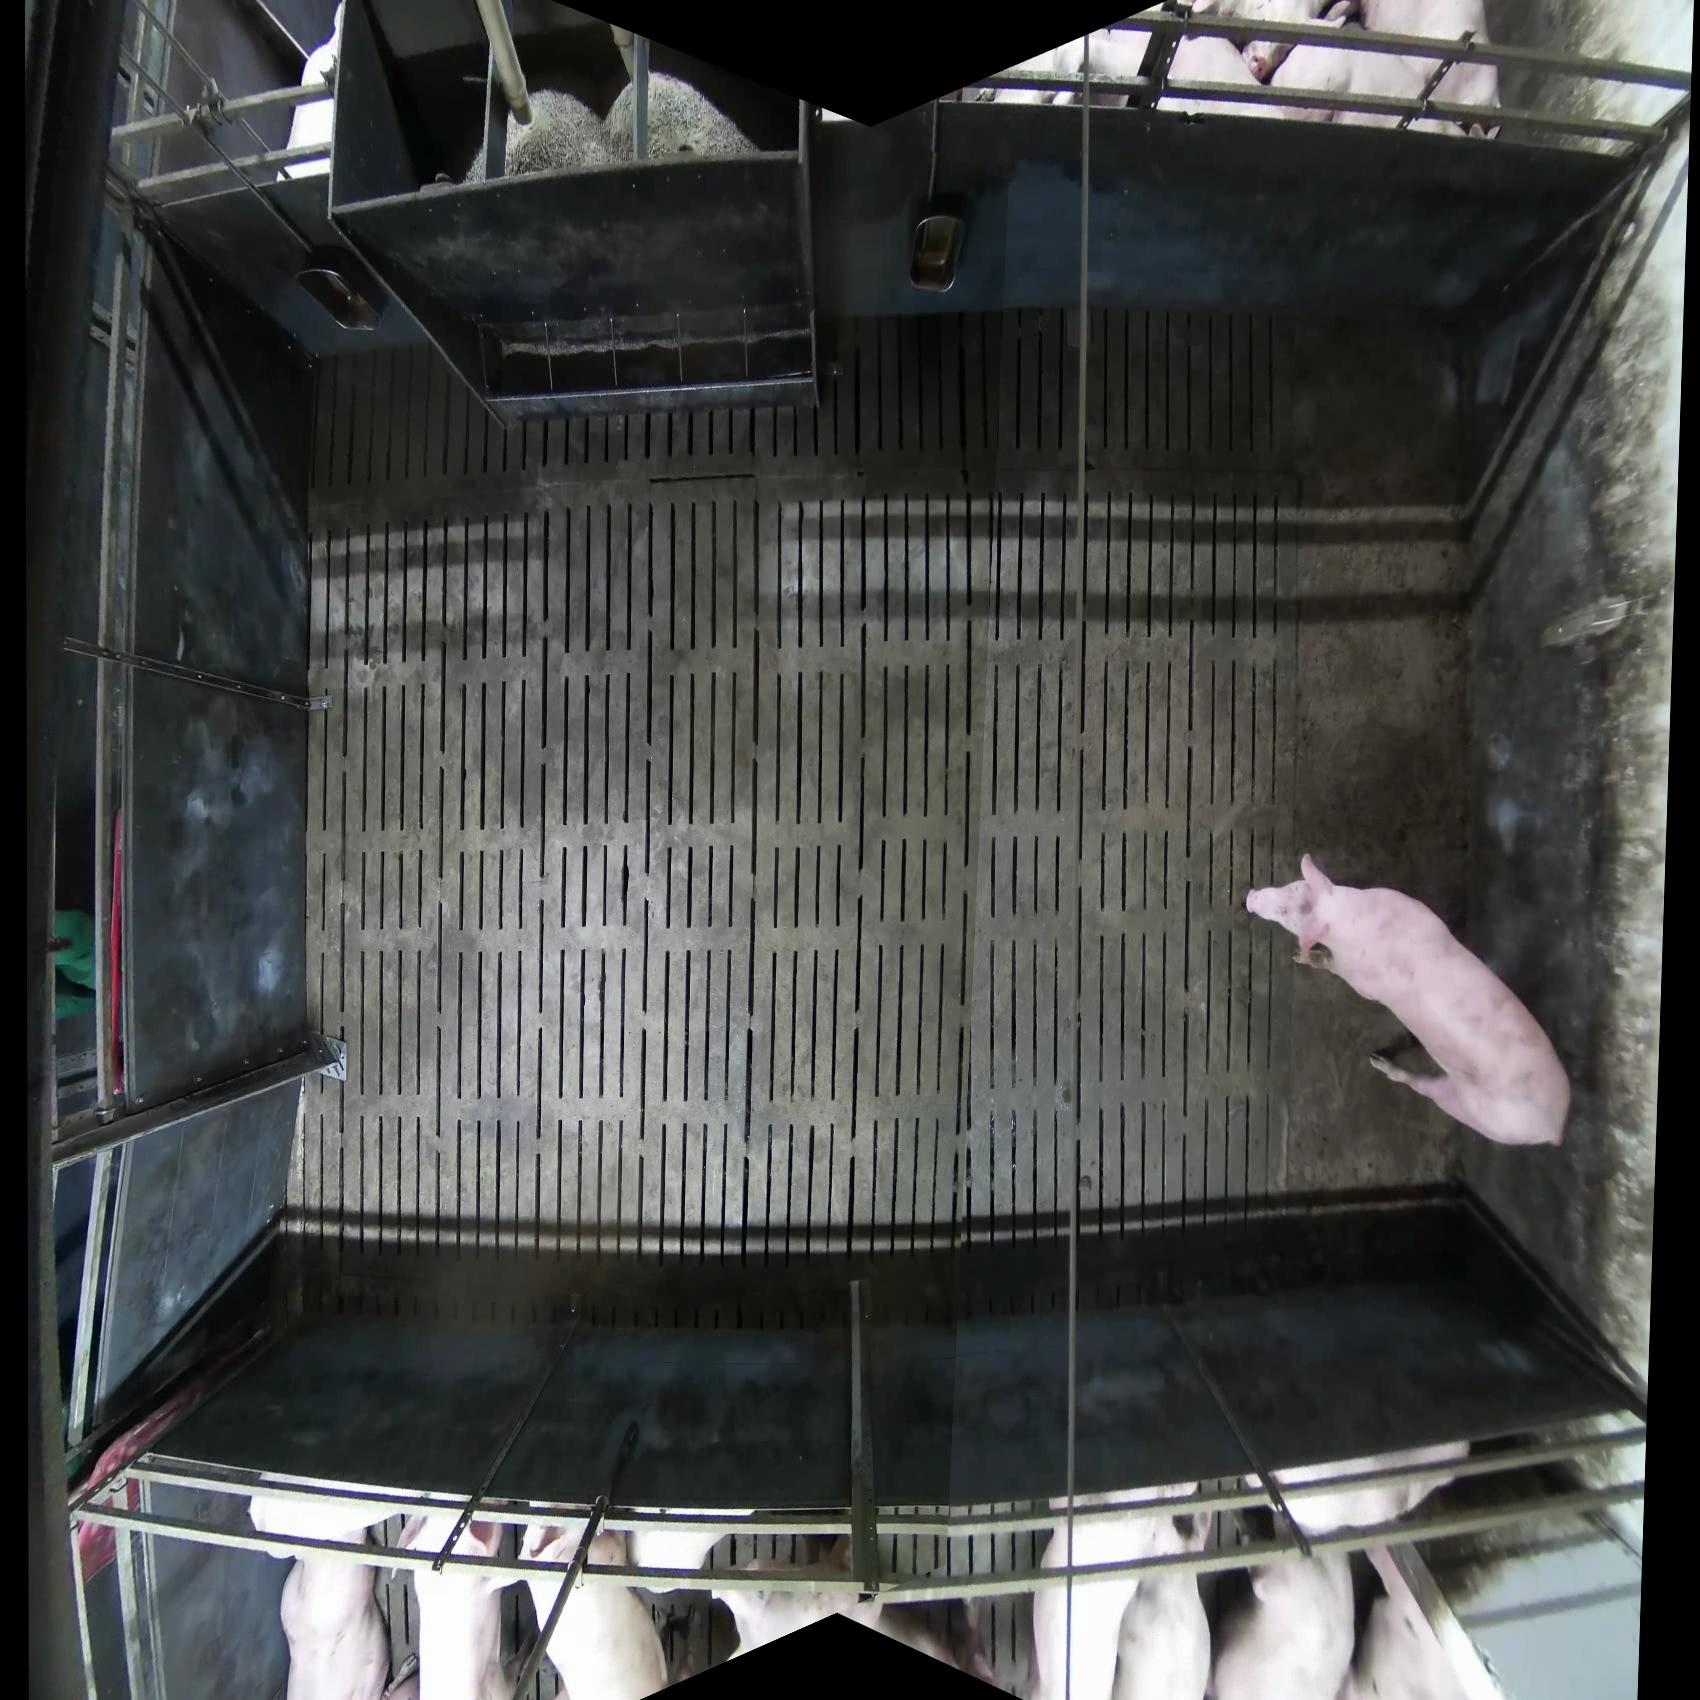pig: (1244, 852, 1572, 1150), (1031, 1488, 1216, 1698), (1245, 2, 1505, 139), (522, 1523, 669, 1698)
